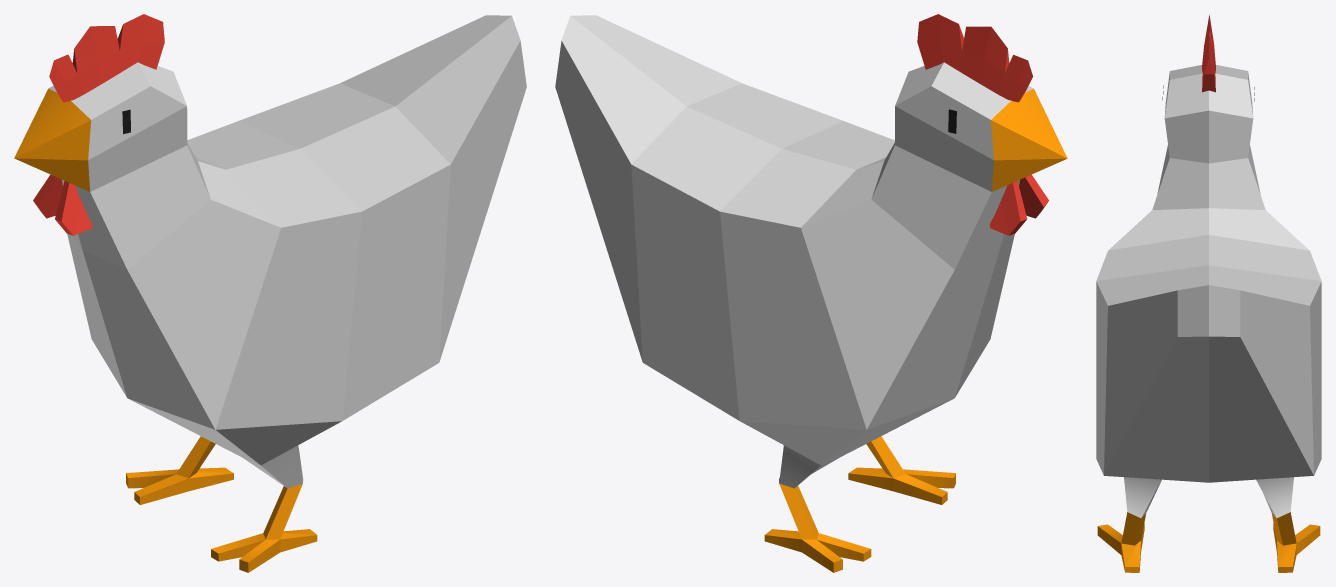
File: chicken.glb
3 views of the same model, side by side, from view 1: azimuth 30°, elevation 25°; view 2: azimuth 150°, elevation 25°; view 3: azimuth 270°, elevation 25° (orthographic). The views are drawn at different scales.
Parts seen in each view (by area): view 1: Chicken; view 2: Chicken; view 3: Chicken.
Part boxes in pixels (x1,y1,x2,y2): Chicken: (14,14,526,572); Chicken: (555,14,1067,572); Chicken: (1096,14,1321,572).
Size of the model in its own units: 10.05 by 10.01 by 4.28.
